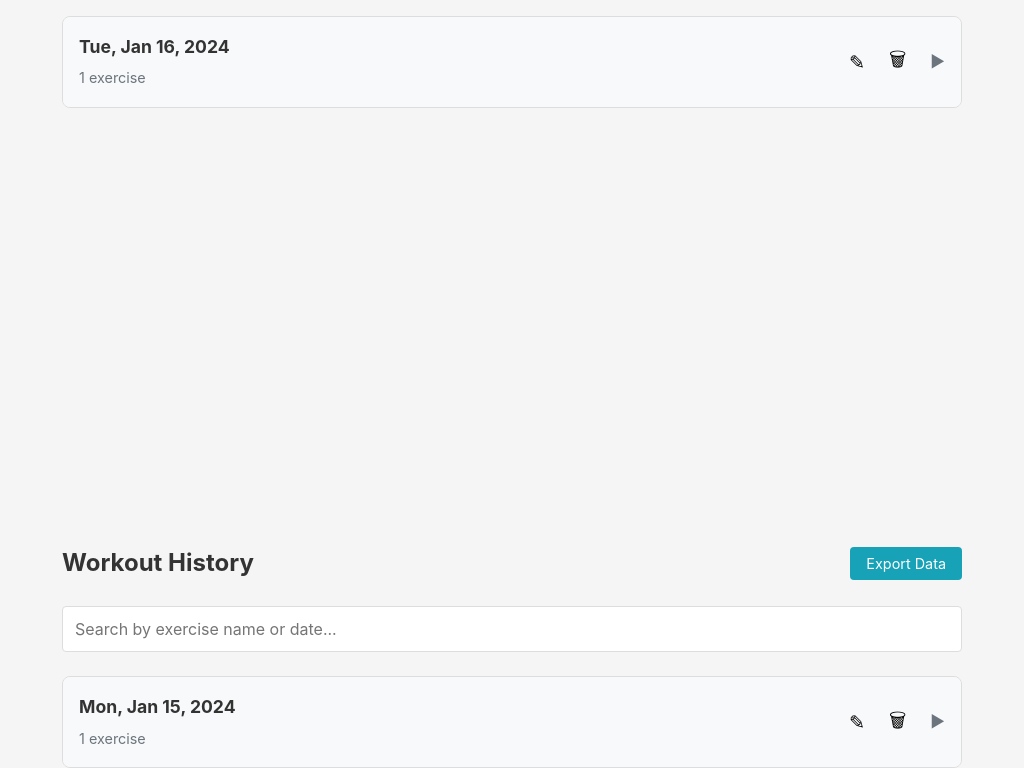
Test case: WorkoutHistory › search functionality › should show message when no search results found
(page scrolled)
Type "Deadlift" into the field with class "search-input" at {"x": 512, "y": 629}, box [62,606,962,652]
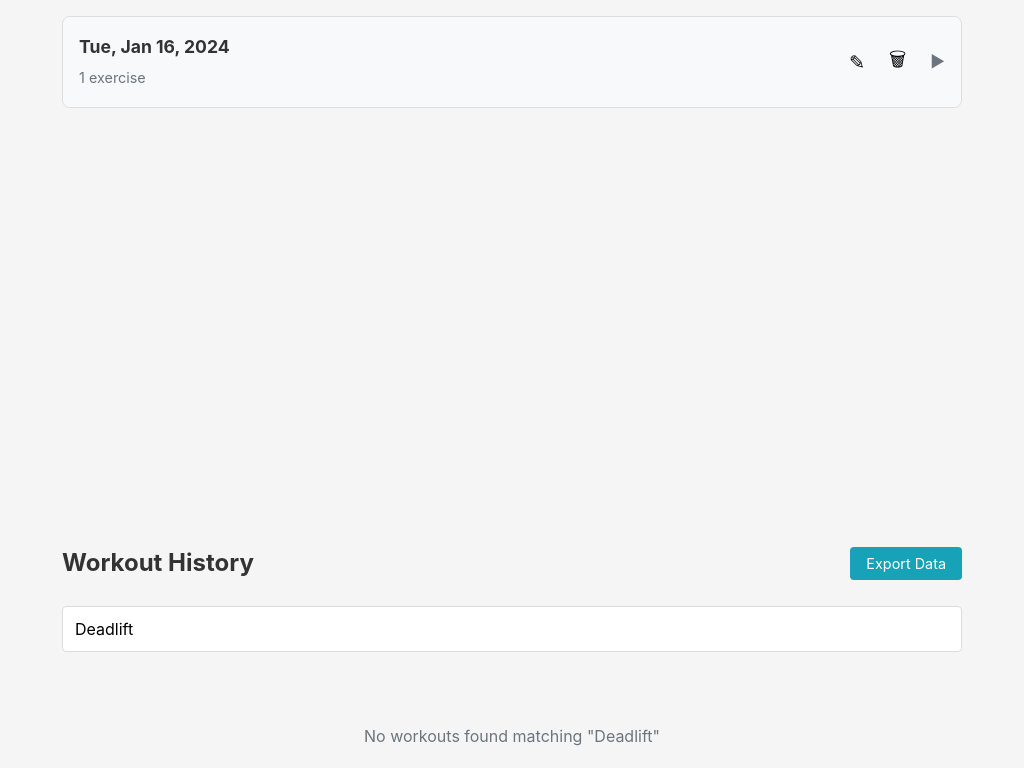
Check: the text "No workouts found matching \"Deadlift\"" is shown, box [364,726,660,746]
